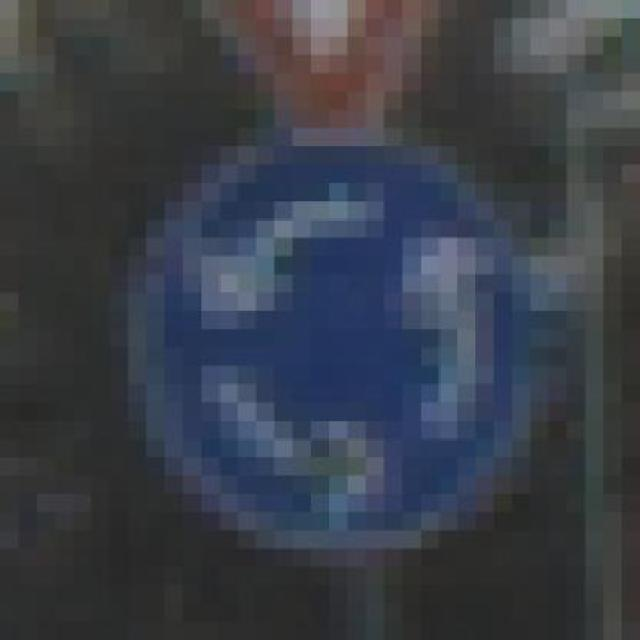Round-About: (54, 128, 586, 586)
